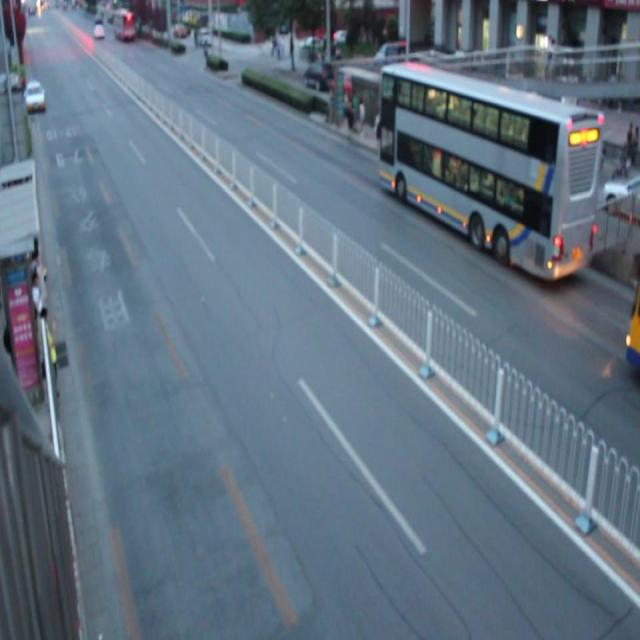van: (378, 59, 599, 280), (623, 266, 640, 382)
